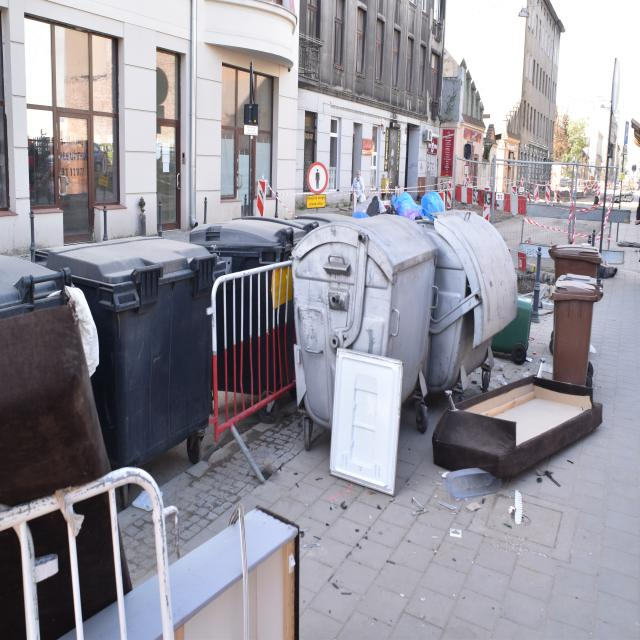lixo domiciliar: (2, 306, 138, 636), (56, 497, 306, 640), (427, 373, 609, 482), (325, 343, 407, 504), (442, 466, 502, 504), (130, 484, 164, 515), (508, 487, 526, 527)
